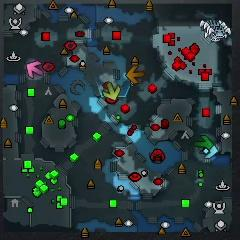x1: (24, 61, 44, 78)
x2: (101, 84, 121, 99)
x3: (205, 143, 217, 158)
x4: (192, 136, 213, 150)
x5: (126, 65, 144, 83)
